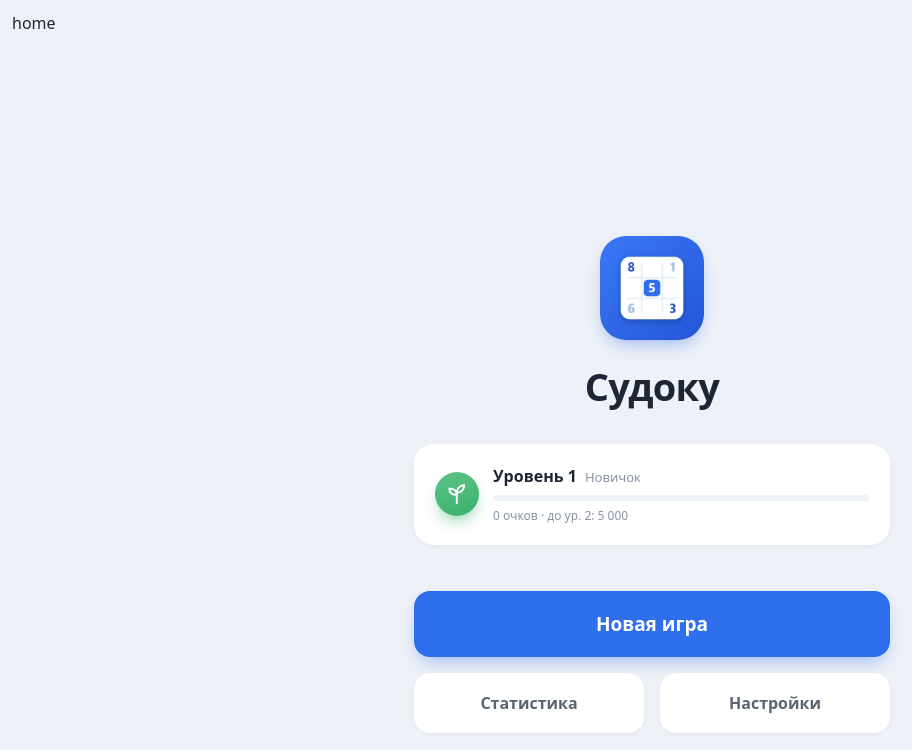
HomeScreen › Статистика ведёт на экран статистики
Step 1. Click the button with test id "home-stats" → (529, 702), box [414,672,644,732]
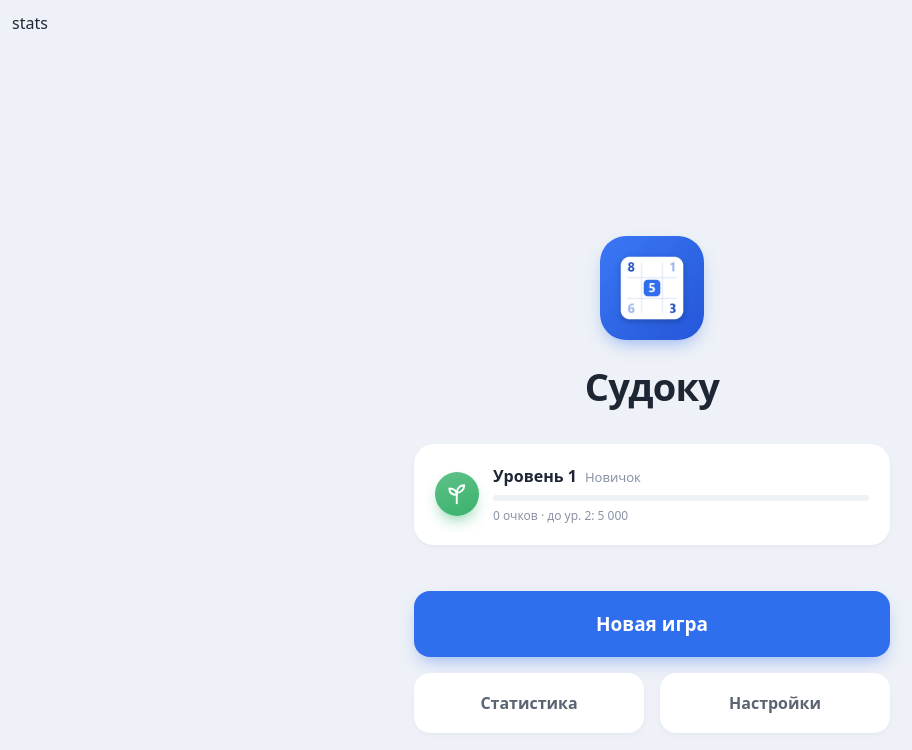
Result: the text with test id "current-screen" reads "stats" at [12,12,48,34]
